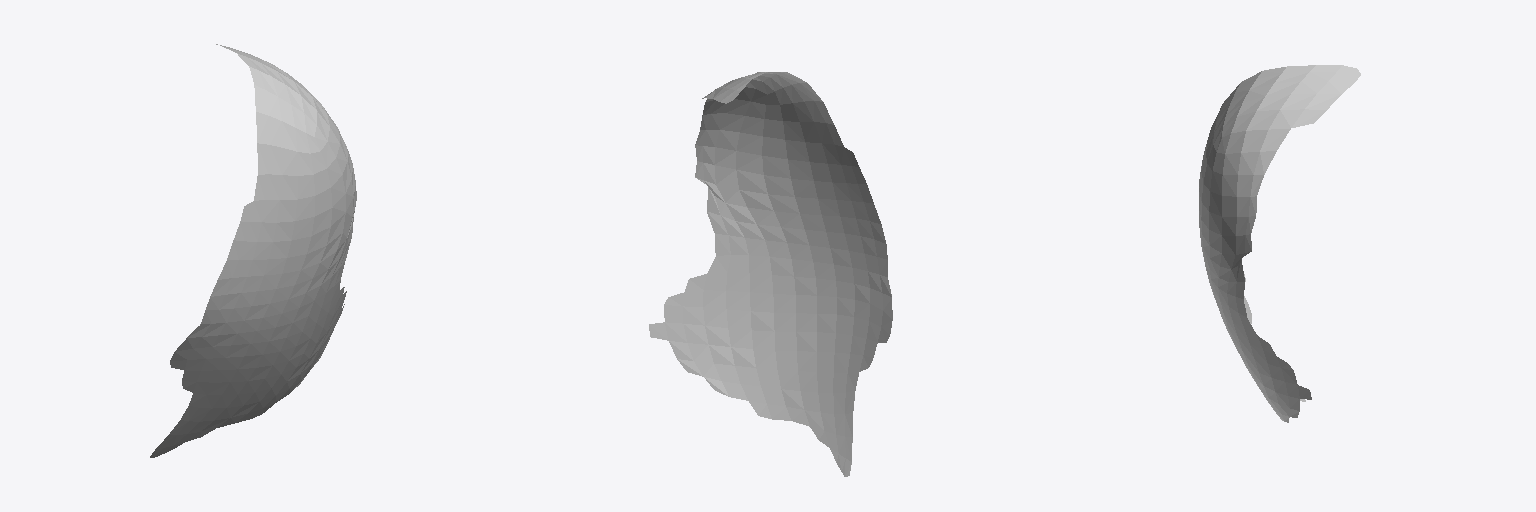
File: Explanatory_C_mesh_opt.obj
The picture shows the model from 3 angles: view 1: azimuth 30°, elevation 25°; view 2: azimuth 150°, elevation 25°; view 3: azimuth 270°, elevation 25°; orthographic projection.
Size of the model in its own units: 0.8529 by 1.48 by 0.5763.